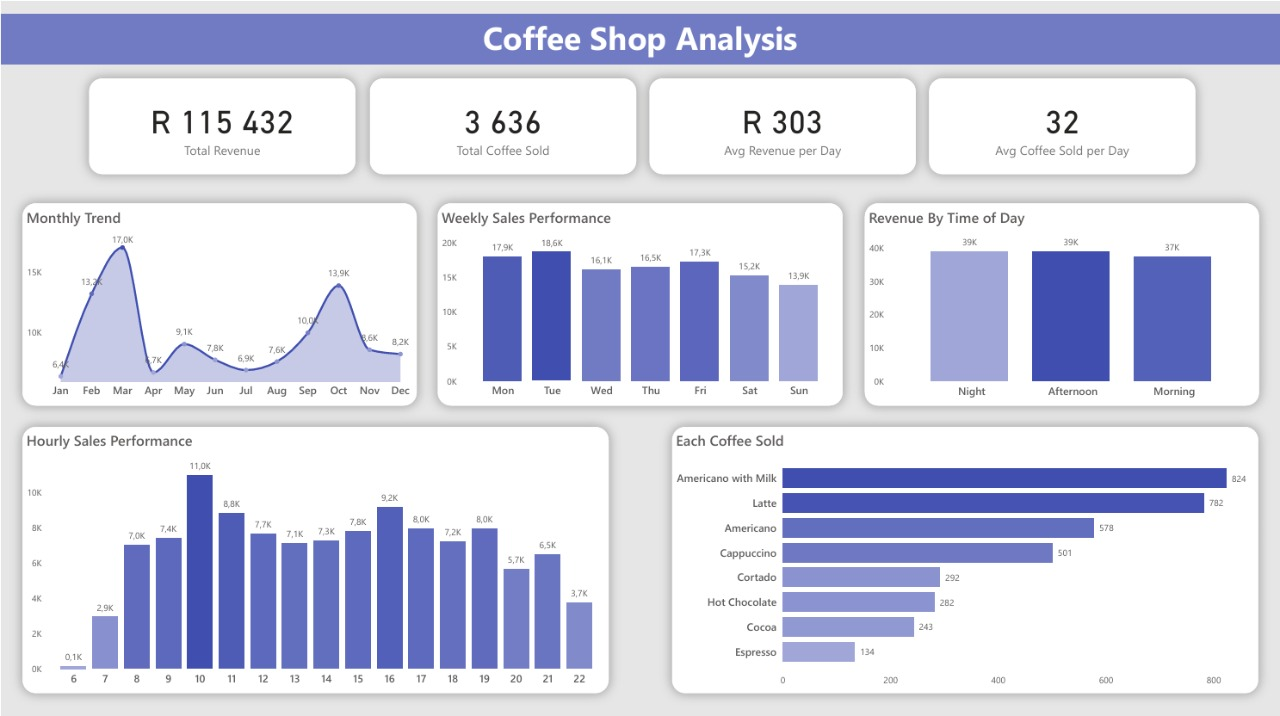

Layout of this report page (visuals, bound fields, positions):
{"tool":"powerbi","page":{"name":"Страница 1","canvas":[1920,1080],"ordinal":0},"visuals":[{"type":"card","fields":{"Values":["Table_1.Revenue"]},"box":[132.9,114.5,400,144],"z":0},{"type":"card","fields":{"Values":["Table_1.Coffee Sold"]},"box":[552.9,114.5,400,144],"z":1000},{"type":"lineChart","title":"Monthly Trend","fields":{"Category":["Table_1.Month_name"],"Y":["Sum(Table_1.money)"]},"box":[32,294,592,304],"z":2000},{"type":"columnChart","title":"Weekly Sales Performance","fields":{"Y":["Sum(Table_1.money)"],"Category":["Table_1.Weekday"]},"box":[656,294,608,304],"z":3000},{"type":"clusteredColumnChart","title":"Hourly Sales Performance","fields":{"Y":["Sum(Table_1.money)"],"Category":["Table_1.hour_of_day"]},"box":[32,630,880,400],"z":4000},{"type":"columnChart","title":"Revenue By Time of Day","fields":{"Y":["Sum(Table_1.money)"],"Category":["Table_1.Time_of_Day"]},"box":[1296.9,294.3,592.3,304.3],"z":6000},{"type":"clusteredBarChart","title":"Each Coffee Sold","fields":{"Category":["Table_1.coffee_name"],"Y":["CountNonNull(Table_1.coffee_name)"]},"box":[1008,630,880,400],"z":7000},{"type":"card","fields":{"Values":["Table_1.Avg Revenue per Day"]},"box":[972.9,114.5,400,144],"z":8000},{"type":"card","fields":{"Values":["Table_1.Avg Coffee Sold per Day"]},"box":[1392.9,114.5,400,144],"z":9000},{"type":"shape","box":[0,0,1920,96],"z":11000},{"type":"textbox","box":[384,16,1152,96],"z":12000}]}

Visuals, with their boxes in screenshot pixels (x1, y1, x2, y2), scaled from the page's 1920x1080 canvas onto the 1280x716 screenshot:
card - Table_1.Revenue: (89,76,355,171)
card - Table_1.Coffee Sold: (369,76,635,171)
"Monthly Trend" lineChart: (21,195,416,396)
"Weekly Sales Performance" columnChart: (437,195,843,396)
"Hourly Sales Performance" clusteredColumnChart: (21,418,608,683)
"Revenue By Time of Day" columnChart: (865,195,1259,397)
"Each Coffee Sold" clusteredBarChart: (672,418,1259,683)
card - Table_1.Avg Revenue per Day: (649,76,915,171)
card - Table_1.Avg Coffee Sold per Day: (929,76,1195,171)
shape: (0,0,1279,64)
textbox: (256,11,1024,74)
